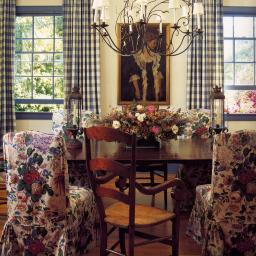Ventana: (16, 14, 70, 116), (207, 7, 255, 118)
